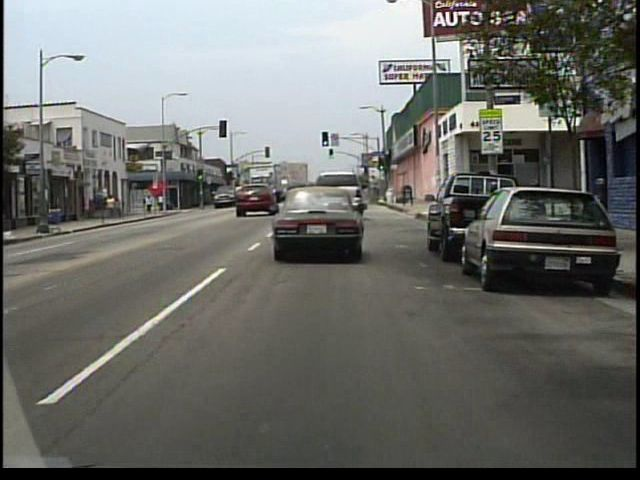person: (107, 195, 117, 220), (145, 195, 154, 215), (116, 197, 123, 219)
